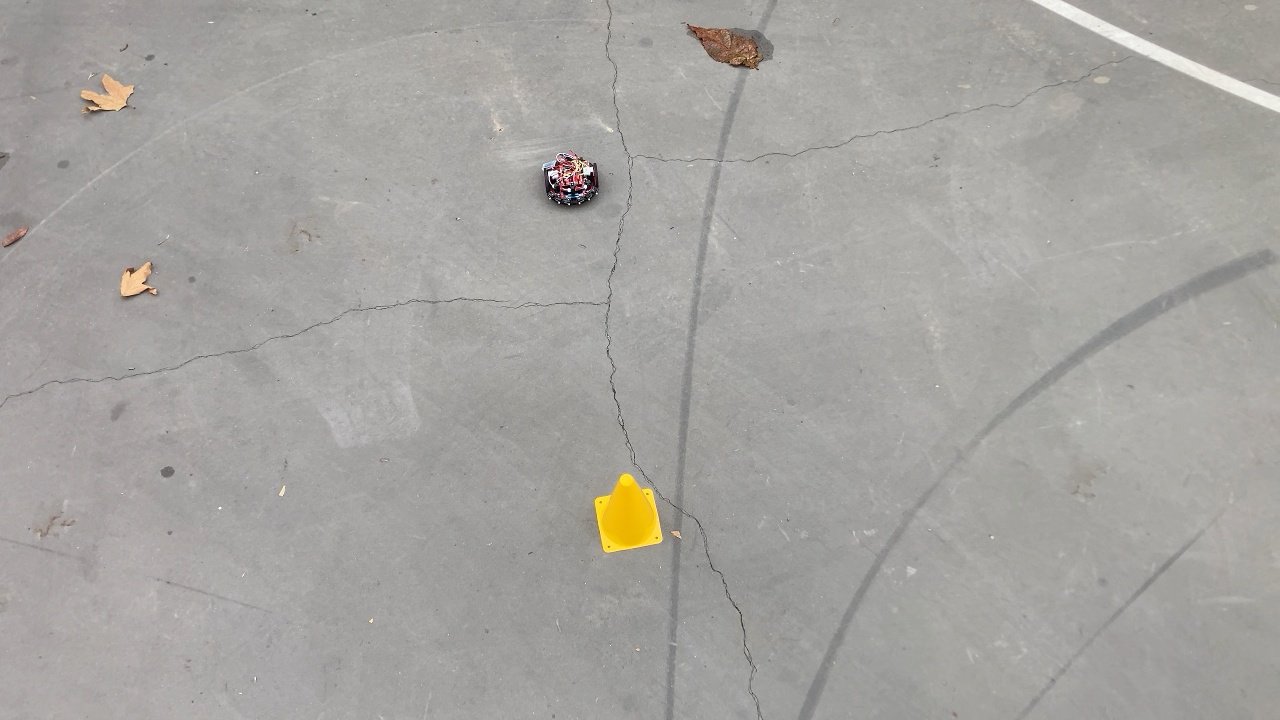robot: (538, 148, 604, 214)
yellow_cone: (588, 469, 668, 560)
